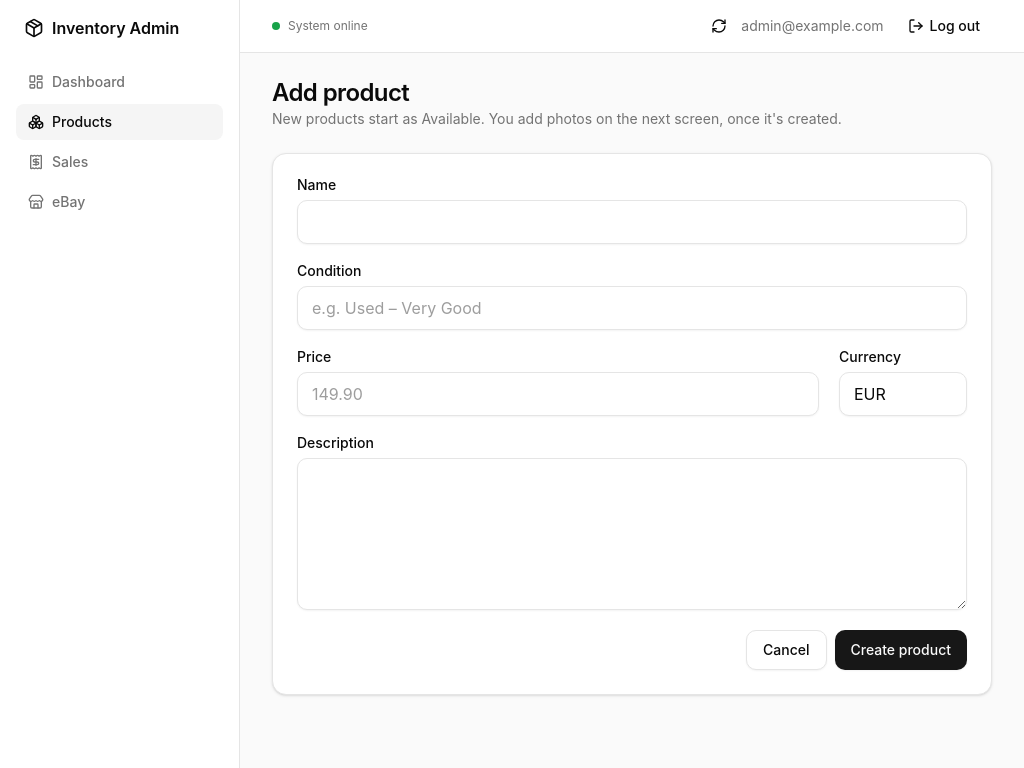
Test case: Add product › shows validation errors and does not submit invalid data
Click the button "Create product" at [901, 650], box left=834, top=630, right=967, bottom=670
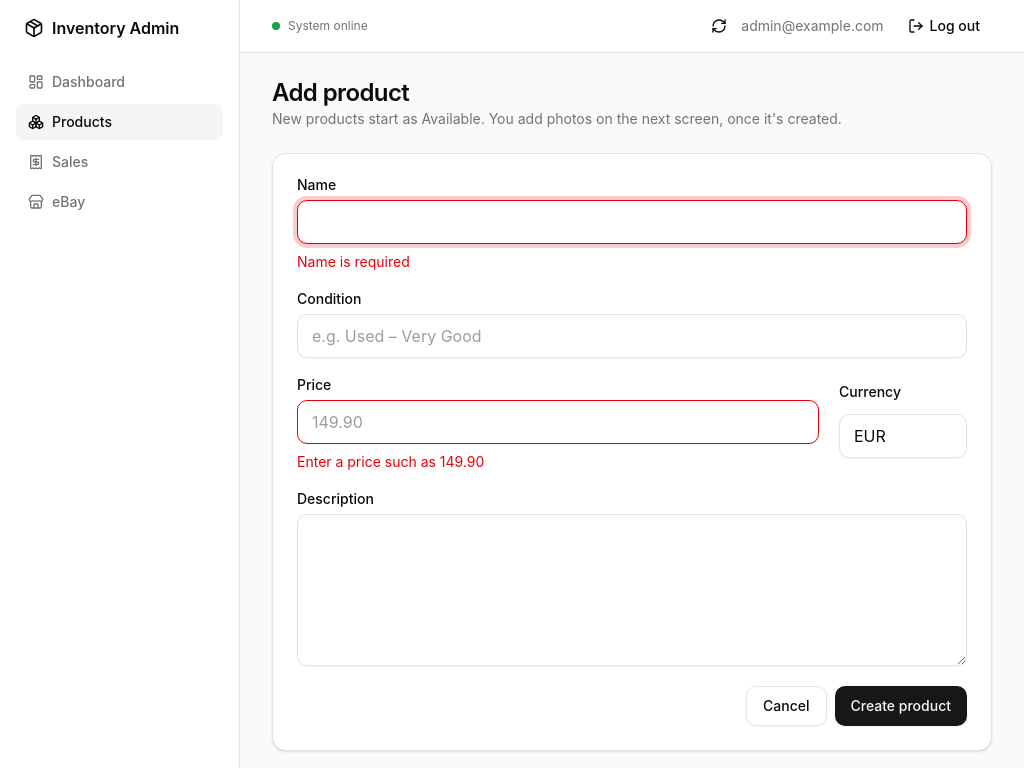
expect the text "Name is required" is shown: met, box left=297, top=253, right=410, bottom=270
expect the text "Enter a price such as 149.90" is shown: met, box left=297, top=453, right=484, bottom=470
